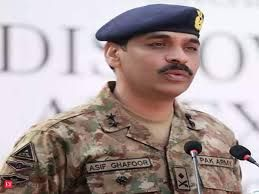uniform: (5, 77, 248, 192)
